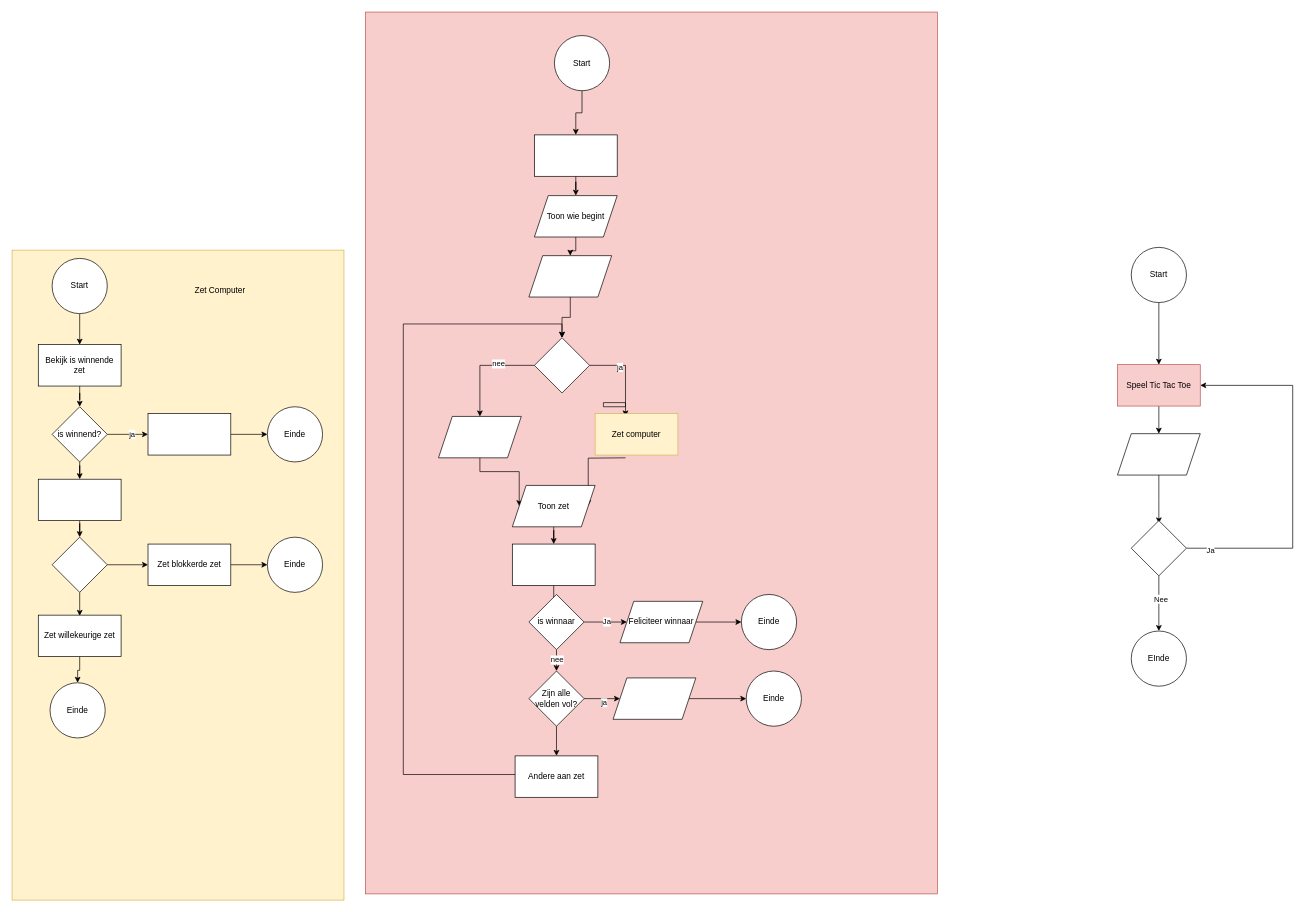
The diagram is 1310 pixels wide and 912 high, and some of its shapes have lost their labels. The shapes that lost their labels are listed below. From the top down, each one's centre as x and y in pixels, then its label:
At (575,155): "random wie begint".
At (570,276): "Toon veld".
At (562,365): "Beurt computer?".
At (189,434): "Zet winnende zet".
At (479,437): "Speler doet zet".
At (1158,454): "INvoer opnieuw spelen".
At (79,500): "kan tegenstander winnen".
At (79,564): "is winnende zet?".
At (553,564): "Bereken is er een winnaar".
At (1158,548): "Opnieuw ?".
At (654,698): "Gelijk spel... jammer".
